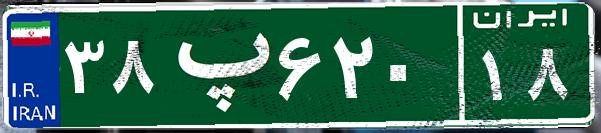0: (385, 28, 445, 110)
1: (475, 38, 525, 113)
2: (330, 28, 385, 110)
3: (57, 26, 110, 107)
6: (273, 28, 330, 110)
8: (110, 28, 158, 105), (525, 38, 570, 115)
پ: (158, 15, 273, 115)
